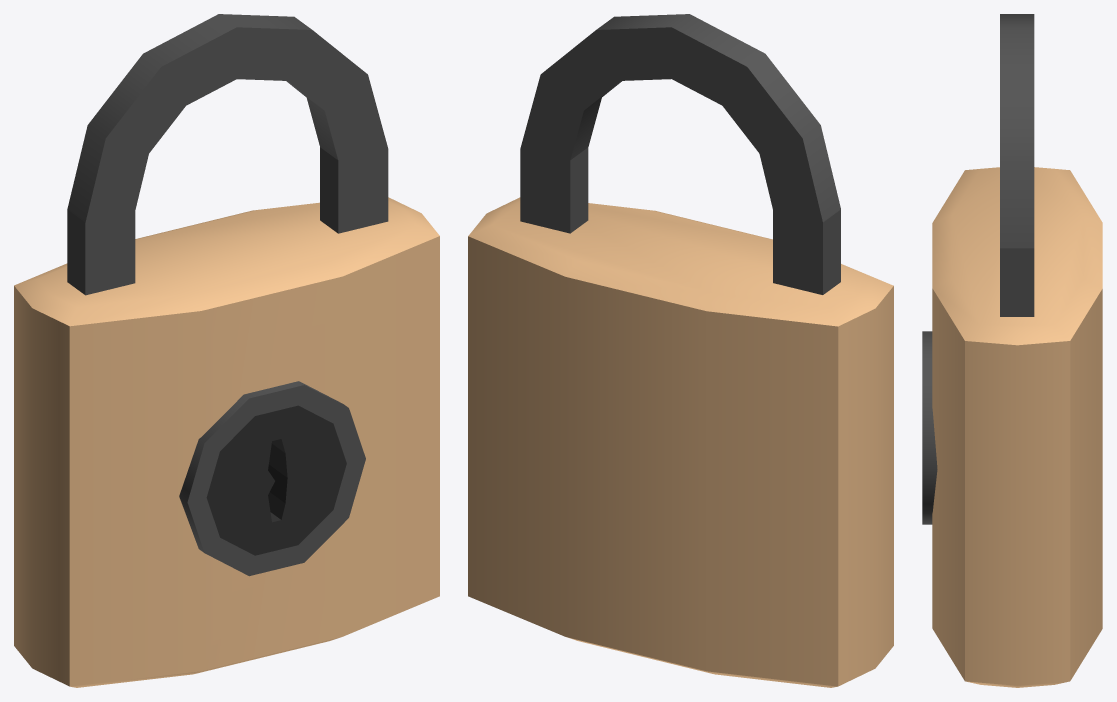
File: Icon_Lock.FBX
The picture shows the model from 3 angles, left to right: view 1: azimuth 30°, elevation 25°; view 2: azimuth 150°, elevation 25°; view 3: azimuth 270°, elevation 25°; orthographic projection. The views are drawn at different scales.
Visible parts, largest first — view 1: Cylinder002; view 2: Cylinder002; view 3: Cylinder002.
Part boxes in pixels (bbox=[...]): Cylinder002: bbox=[14, 14, 439, 687]; Cylinder002: bbox=[468, 14, 893, 687]; Cylinder002: bbox=[922, 14, 1102, 687].
Size of the model in its own units: 22.78 by 34.21 by 9.69.
